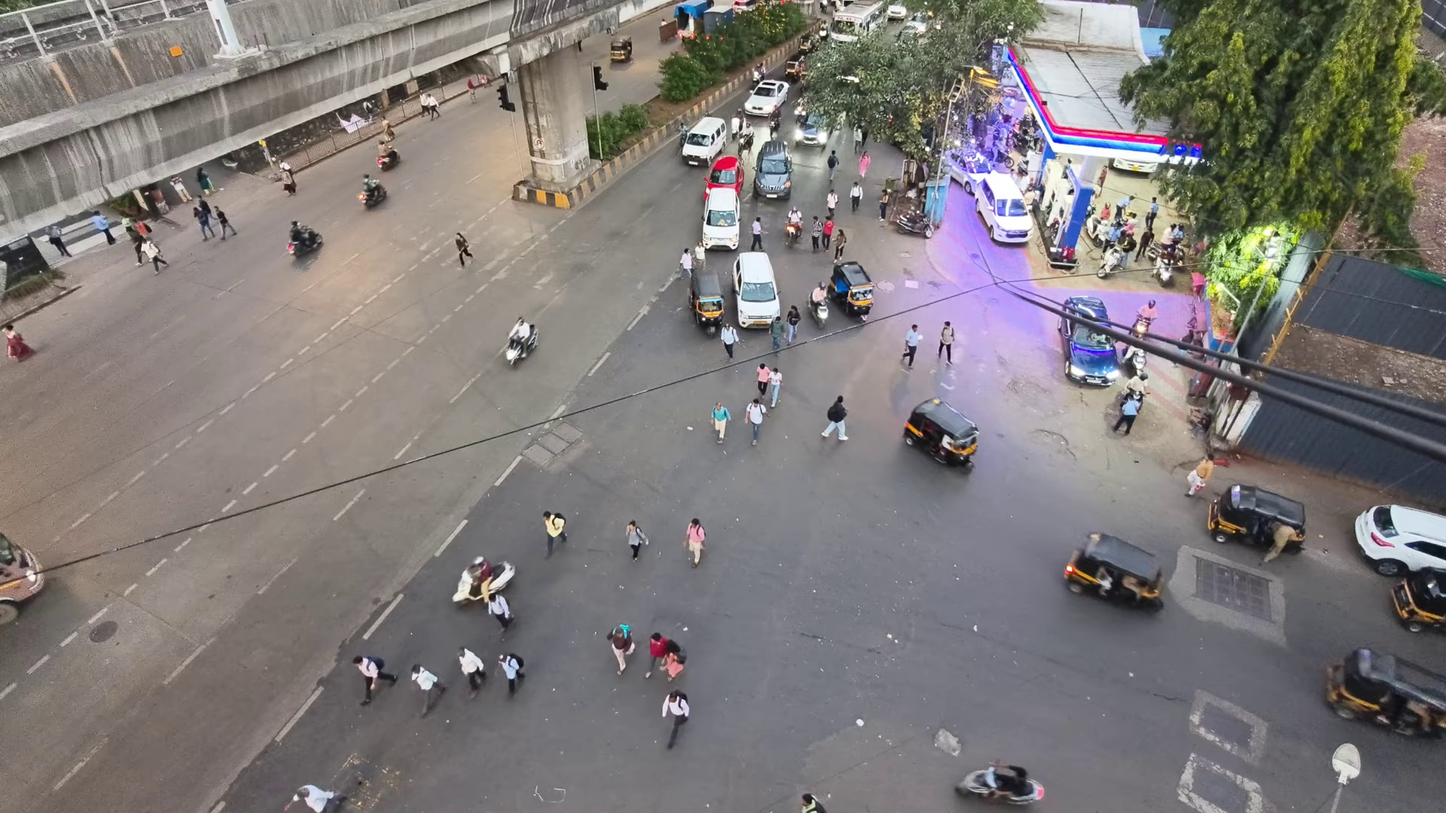walking: (352, 656, 396, 705), (410, 665, 446, 716), (283, 784, 347, 812), (662, 690, 689, 748), (607, 624, 635, 674), (1262, 522, 1295, 562), (459, 647, 485, 696), (487, 592, 514, 637), (644, 632, 670, 678), (821, 395, 847, 440), (3, 324, 33, 361), (1185, 457, 1213, 496), (499, 653, 524, 696), (685, 518, 706, 568), (1112, 397, 1140, 434), (543, 511, 566, 556), (745, 398, 766, 445), (901, 324, 922, 368), (626, 520, 648, 562), (142, 238, 168, 273), (663, 641, 685, 681), (45, 224, 72, 256), (90, 210, 115, 244), (711, 402, 731, 443), (127, 224, 145, 266), (193, 206, 215, 240), (214, 206, 237, 238), (938, 321, 954, 364), (1135, 223, 1153, 260), (720, 324, 737, 359), (454, 233, 472, 266), (786, 305, 801, 344), (170, 176, 192, 202), (279, 163, 296, 196), (770, 316, 786, 351), (197, 168, 215, 196), (769, 369, 782, 407), (422, 92, 439, 120), (800, 794, 826, 812), (679, 248, 693, 279), (757, 363, 770, 396), (834, 227, 847, 260), (750, 217, 762, 250), (811, 216, 822, 251), (822, 216, 834, 248), (694, 239, 706, 271), (1146, 197, 1158, 228), (850, 181, 862, 212), (826, 151, 838, 181), (878, 189, 889, 221), (859, 150, 871, 178), (826, 188, 837, 218), (853, 127, 862, 154), (859, 127, 868, 149)
